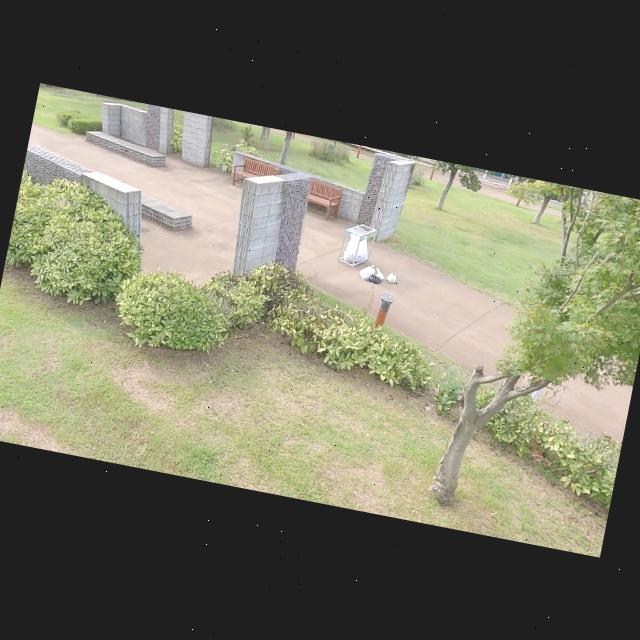trash: (359, 262, 376, 282), (366, 272, 384, 286), (385, 269, 400, 285), (373, 264, 387, 280)
